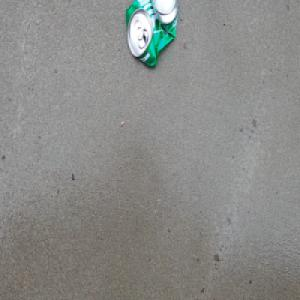SodaCan: (124, 0, 178, 70)
